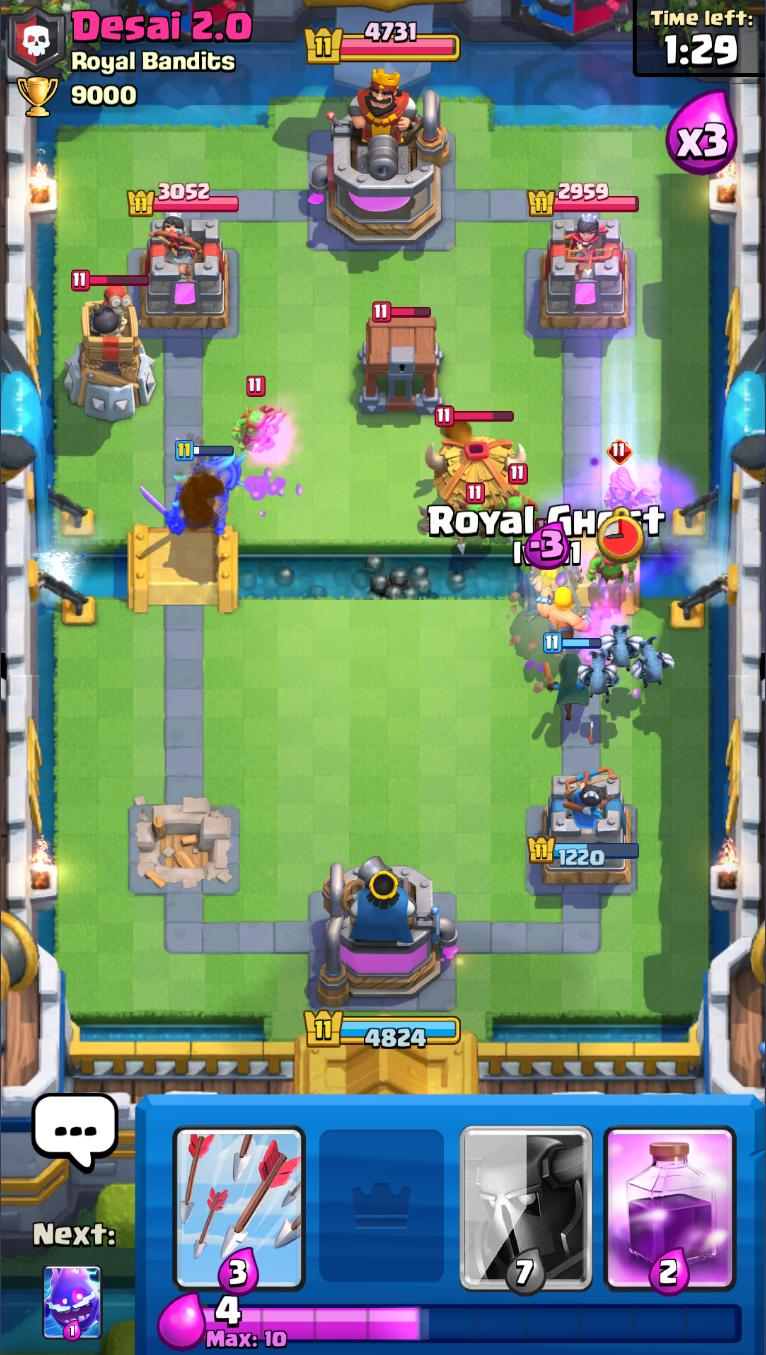ArrowDeck: (165, 1096, 307, 1295)
BombTower: (61, 268, 156, 422)
ElectroSpiritDeck: (41, 1263, 101, 1344)
Elixir: (202, 1295, 745, 1352)
Empty: (311, 1097, 454, 1295)
EnemyTower: (137, 214, 231, 333), (538, 214, 632, 331)
EvoValkyrie: (605, 438, 659, 513)
GoblinCage: (356, 302, 448, 416)
GoblinHut: (419, 401, 524, 544)
KingTower: (309, 80, 454, 248)
KingTowerHP: (304, 27, 462, 65)
MyBandit: (541, 633, 602, 721)
MyBarbarian: (536, 582, 593, 642), (523, 563, 571, 598)
MyKingHP: (302, 1006, 463, 1051)
MyKingTower: (318, 855, 460, 1009)
MyMinion: (631, 635, 675, 691), (595, 624, 644, 672), (580, 648, 619, 700)
MyPekka: (137, 438, 246, 538)
MyPrincessTower: (526, 768, 642, 889)
MyPrincessTowerBrocken: (126, 794, 242, 899)
MyPrincessTowerHP: (527, 835, 642, 867)
PekkaDeck: (454, 1097, 600, 1294)
PrincessTower: (549, 214, 604, 275), (152, 214, 202, 273)
RageDeck: (600, 1097, 744, 1294)
SpearGoblin: (454, 477, 508, 557), (230, 375, 284, 455), (486, 463, 540, 543), (586, 539, 640, 593)
TowerPrincessHP: (127, 180, 241, 217), (527, 181, 640, 216)
